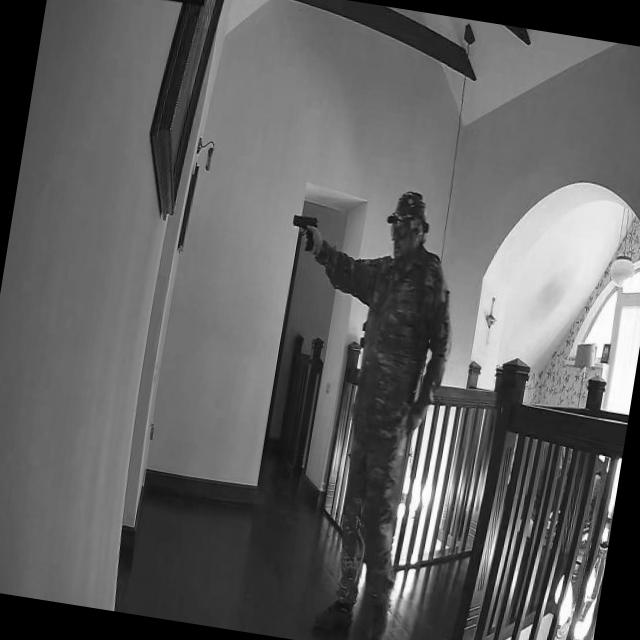gun: (288, 212, 321, 254)
person with a gun: (230, 172, 475, 640)
